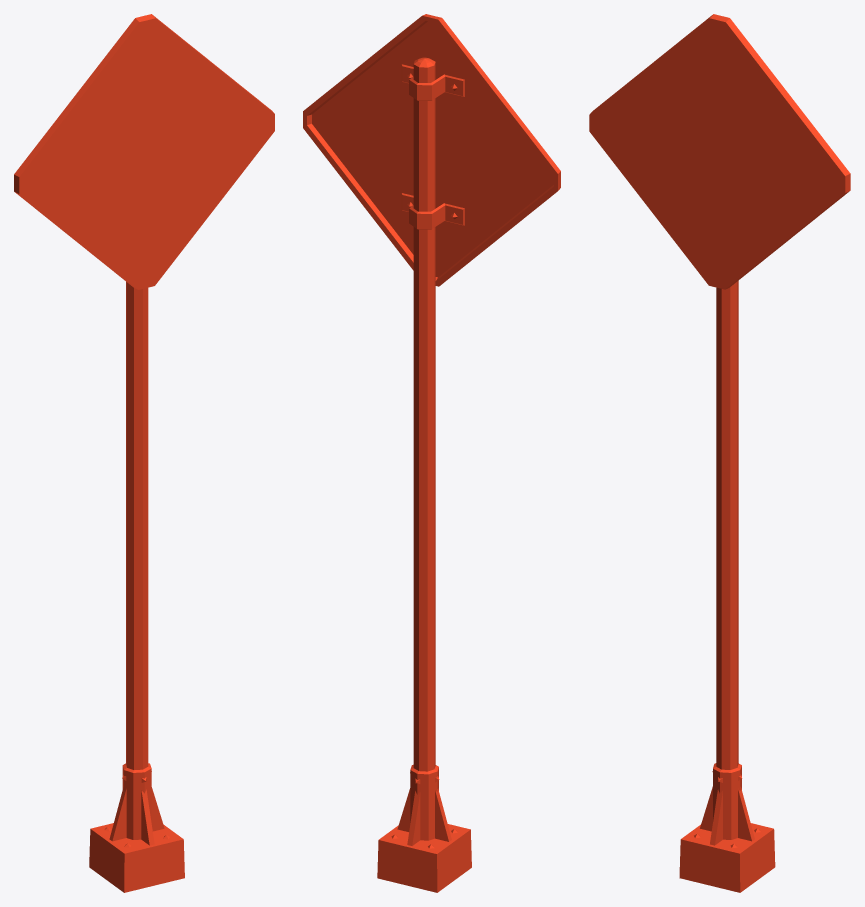
The model's file is SM_Sign_Turn_B_City.fbx.
3 renders of one model, left to right at view 1: azimuth 30°, elevation 25°; view 2: azimuth 150°, elevation 25°; view 3: azimuth 330°, elevation 25°, orthographic.
Visible parts, largest first — view 1: SM_Sign_Turn_B_City; view 2: SM_Sign_Turn_B_City; view 3: SM_Sign_Turn_B_City.
Part boxes in pixels (x1=…): SM_Sign_Turn_B_City: x1=14, y1=14, x2=274, y2=892; SM_Sign_Turn_B_City: x1=303, y1=14, x2=560, y2=892; SM_Sign_Turn_B_City: x1=589, y1=14, x2=850, y2=892.
Size of the model in its own units: 0.7813 by 2.49 by 0.1839.
